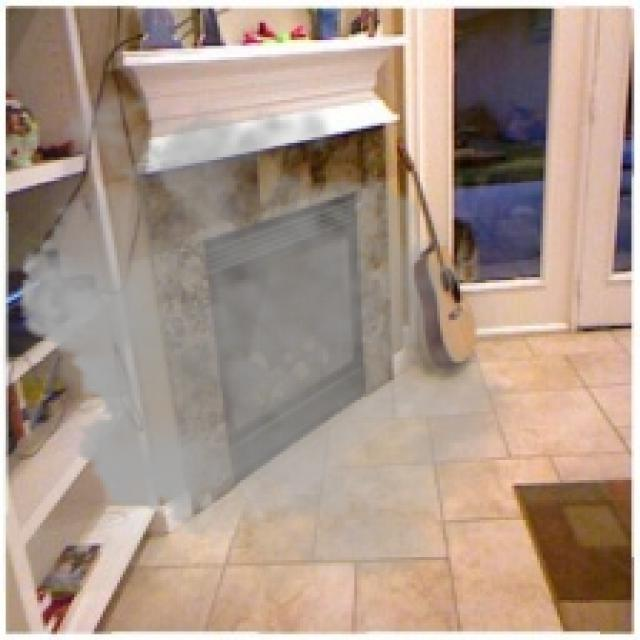Smoke: (2, 74, 538, 592)
